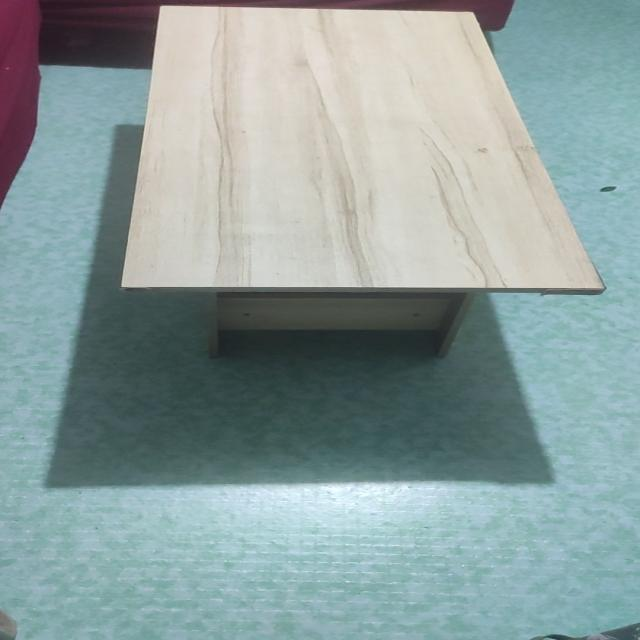table: (129, 4, 604, 354)
